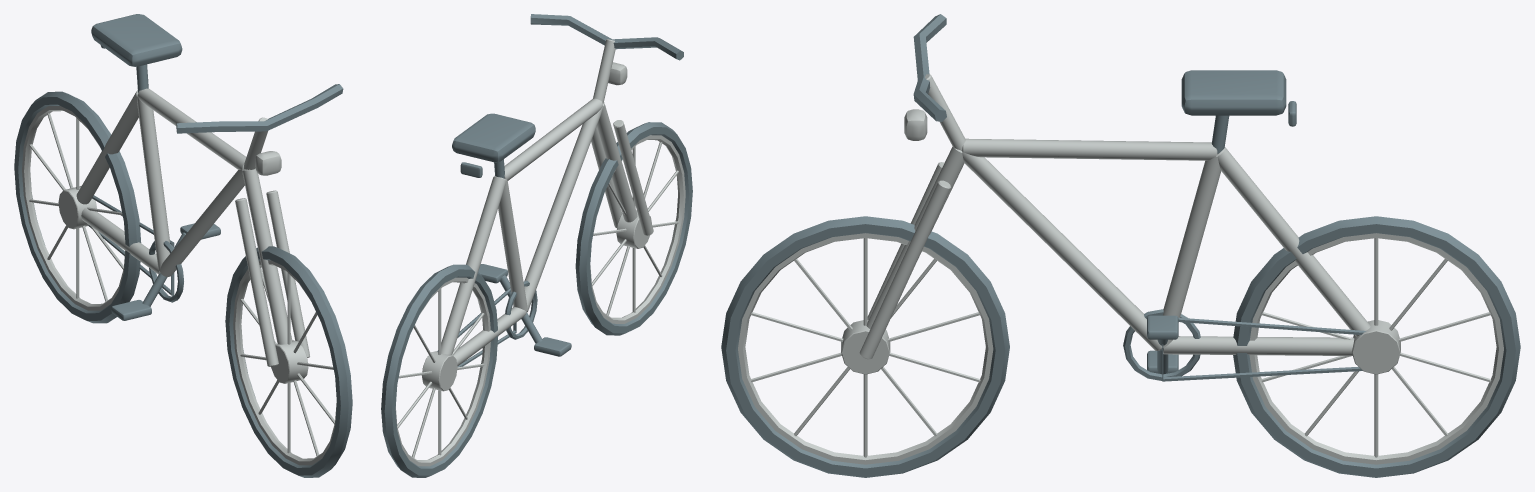
File: bicycle.glb
The picture shows the model from 3 angles, left to right: view 1: azimuth 30°, elevation 25°; view 2: azimuth 150°, elevation 25°; view 3: azimuth 270°, elevation 25°; orthographic projection. The views are drawn at different scales.
Visible parts, largest first — view 1: wheel_tire.001, wheel_tire, saddle, frame_tube.005, frame_tube.002, wheel_rim, wheel_rim.001, fork, handlebar, frame_tube.004, frame_tube.003, frame_tube.001 (+9 smaller); view 2: wheel_tire, wheel_tire.001, frame_tube.004, saddle, frame_tube.001, wheel_rim.001, wheel_rim, frame_tube.003, frame_tube.002, handlebar, frame_tube.005, fork (+10 smaller); view 3: wheel_tire.001, wheel_tire, wheel_rim.001, wheel_rim, frame_tube.004, frame_tube.003, saddle, frame_tube.001, frame_tube, frame_tube.002, fork.001, wheel_hub (+6 smaller).
Part boxes in pixels (bbox=[...]): wheel_tire.001: bbox=[225, 246, 352, 477]; wheel_tire: bbox=[14, 91, 141, 323]; saddle: bbox=[91, 14, 182, 66]; frame_tube.005: bbox=[242, 168, 292, 344]; frame_tube.002: bbox=[137, 96, 169, 271]; wheel_rim: bbox=[22, 106, 125, 310]; wheel_rim.001: bbox=[233, 260, 336, 465]; fork: bbox=[235, 198, 278, 366]; handlebar: bbox=[176, 84, 343, 133]; frame_tube.004: bbox=[160, 170, 244, 276]; frame_tube.003: bbox=[137, 88, 246, 169]; frame_tube.001: bbox=[76, 90, 138, 204]; wheel_tire: bbox=[381, 264, 498, 477]; wheel_tire.001: bbox=[575, 122, 692, 335]; frame_tube.004: bbox=[524, 106, 603, 312]; saddle: bbox=[452, 113, 535, 162]; frame_tube.001: bbox=[441, 176, 506, 354]; wheel_rim.001: bbox=[590, 135, 685, 323]; wheel_rim: bbox=[395, 277, 490, 466]; frame_tube.003: bbox=[504, 98, 602, 180]; frame_tube.002: bbox=[498, 179, 527, 311]; handlebar: bbox=[530, 14, 683, 60]; frame_tube.005: bbox=[597, 102, 637, 222]; fork: bbox=[613, 120, 653, 235]; wheel_tire.001: bbox=[721, 216, 1009, 477]; wheel_tire: bbox=[1233, 216, 1520, 477]; wheel_rim.001: bbox=[738, 233, 993, 464]; wheel_rim: bbox=[1249, 233, 1503, 464]; frame_tube.004: bbox=[962, 151, 1162, 350]; frame_tube.003: bbox=[962, 138, 1217, 160]; saddle: bbox=[1181, 70, 1286, 115]; frame_tube.001: bbox=[1217, 147, 1370, 336]; frame_tube: bbox=[1163, 336, 1354, 355]; frame_tube.002: bbox=[1162, 155, 1221, 348]; fork.001: bbox=[859, 180, 950, 359]; wheel_hub: bbox=[1351, 320, 1400, 374].
Bounding box in the file's own units: 0.5529 × 1.1 × 1.91.
